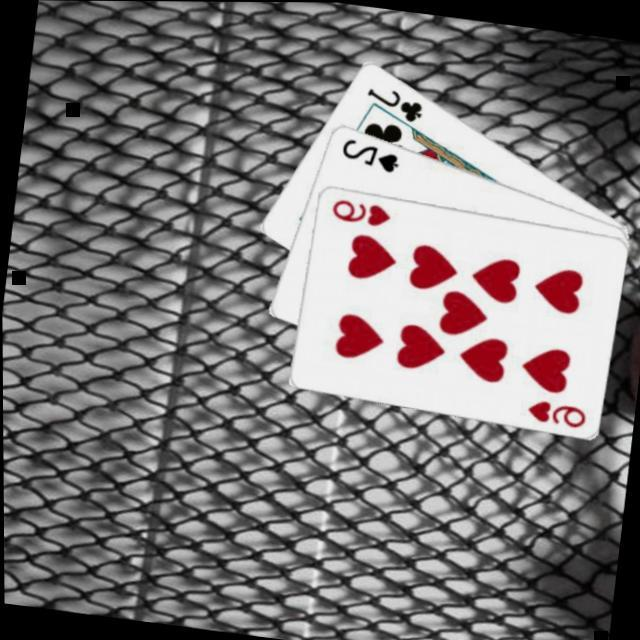2S: (336, 134, 404, 176)
9H: (327, 195, 394, 231), (522, 395, 589, 431)
JC: (361, 84, 427, 127)
